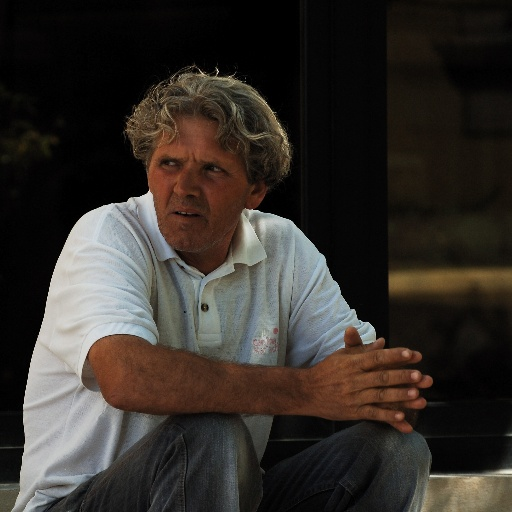hand: (343, 325, 434, 434)
